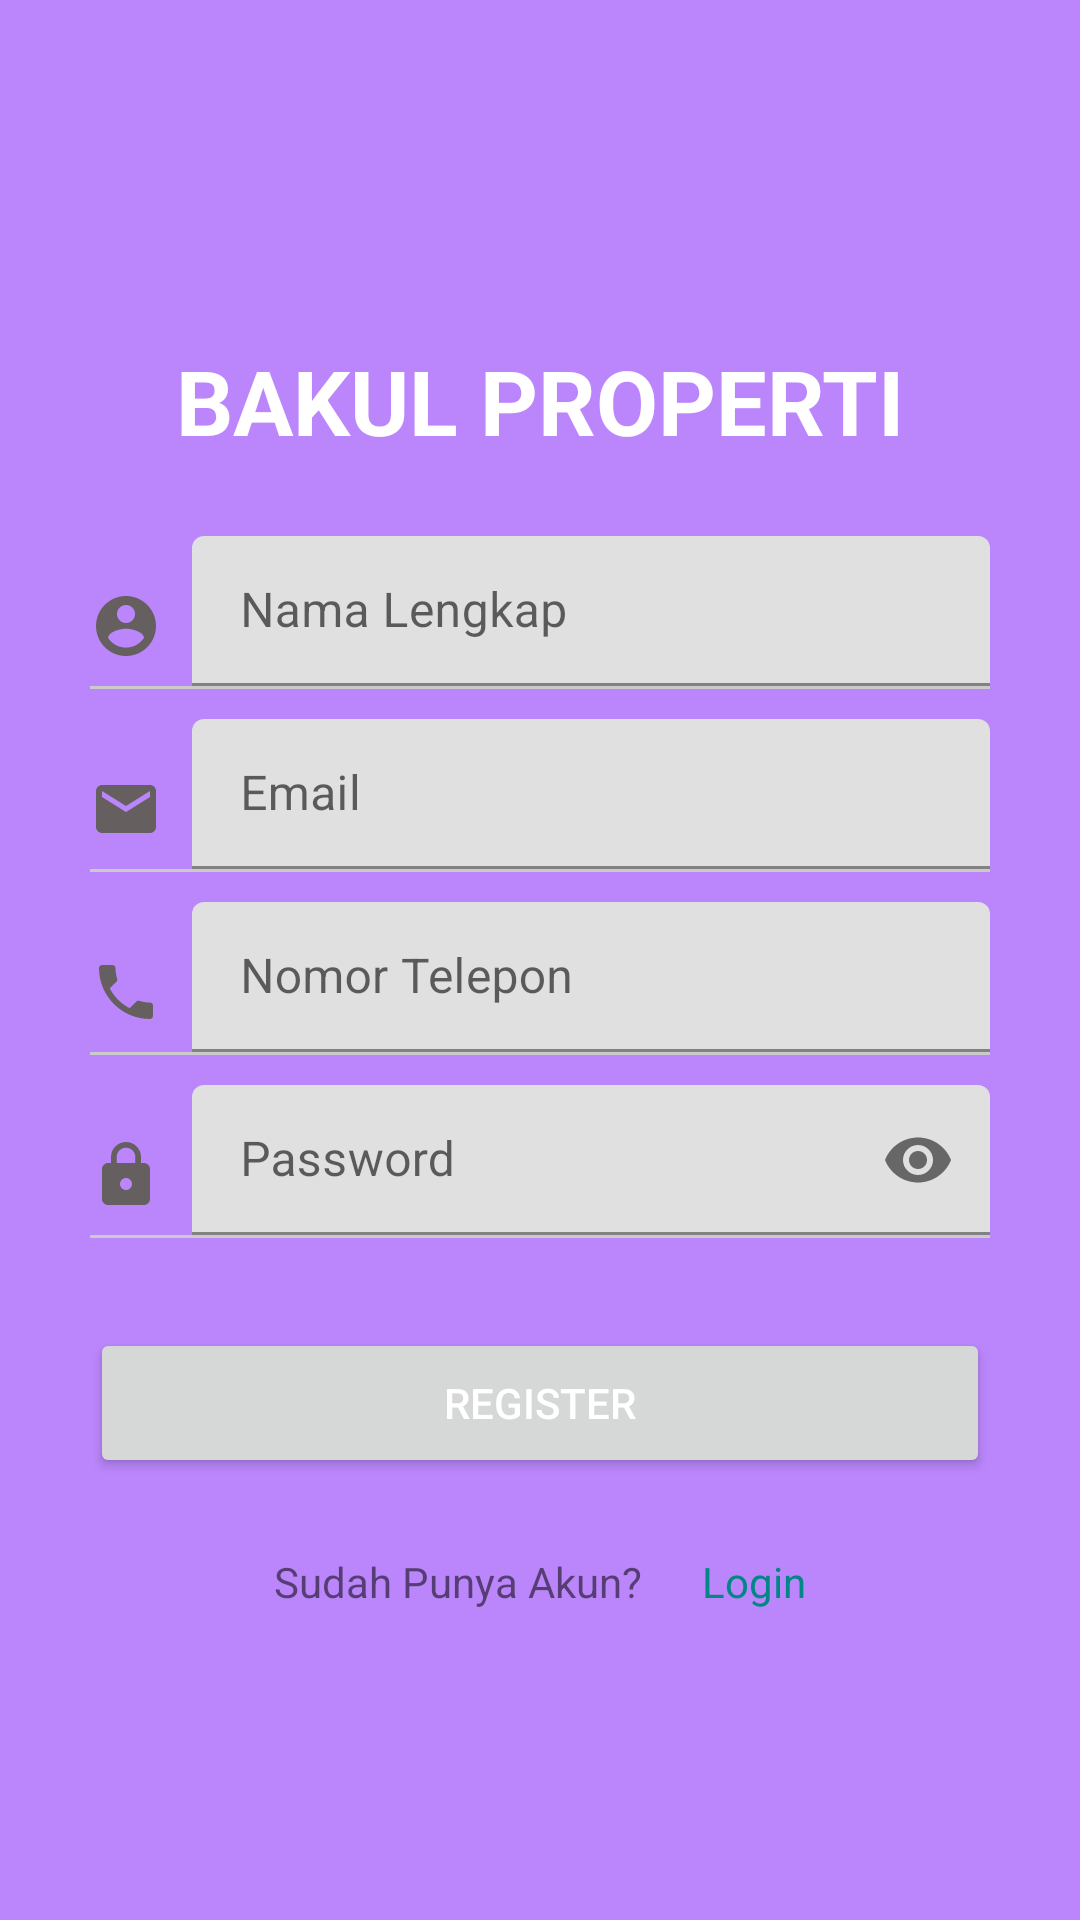

Named icons in this screenshot (1080 x 1920) and their bounding boxes, (x1, y1, x2, y2):
account circle: (96, 596, 156, 656)
local phone: (99, 965, 153, 1019)
lock: (102, 1142, 150, 1205)
